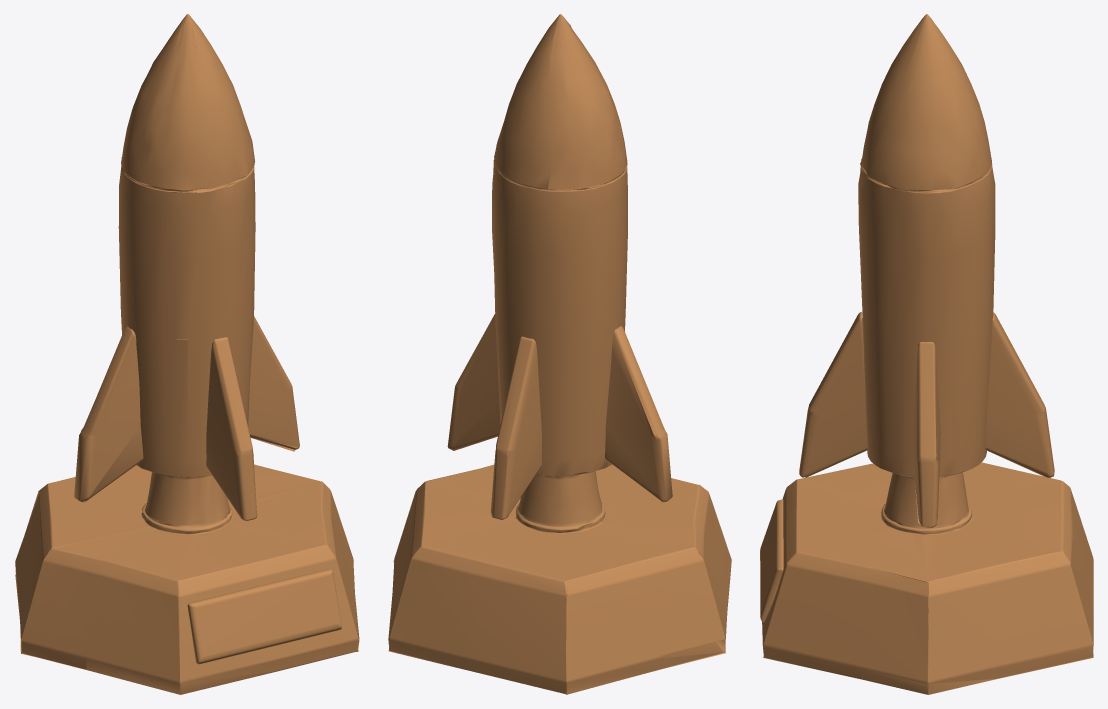
Rendered from bronz_roket.glb.
3 renders of one model, left to right at view 1: azimuth 30°, elevation 25°; view 2: azimuth 150°, elevation 25°; view 3: azimuth 270°, elevation 25°, orthographic.
Visible parts, largest first — view 1: bronz_roket_AO_candidate; view 2: bronz_roket_AO_candidate; view 3: bronz_roket_AO_candidate.
Part boxes in pixels (x1=…): bronz_roket_AO_candidate: x1=15, y1=14, x2=359, y2=694; bronz_roket_AO_candidate: x1=388, y1=14, x2=731, y2=694; bronz_roket_AO_candidate: x1=760, y1=14, x2=1093, y2=694.
Bounding box in the file's own units: 0.5802 × 1 × 0.5036.
